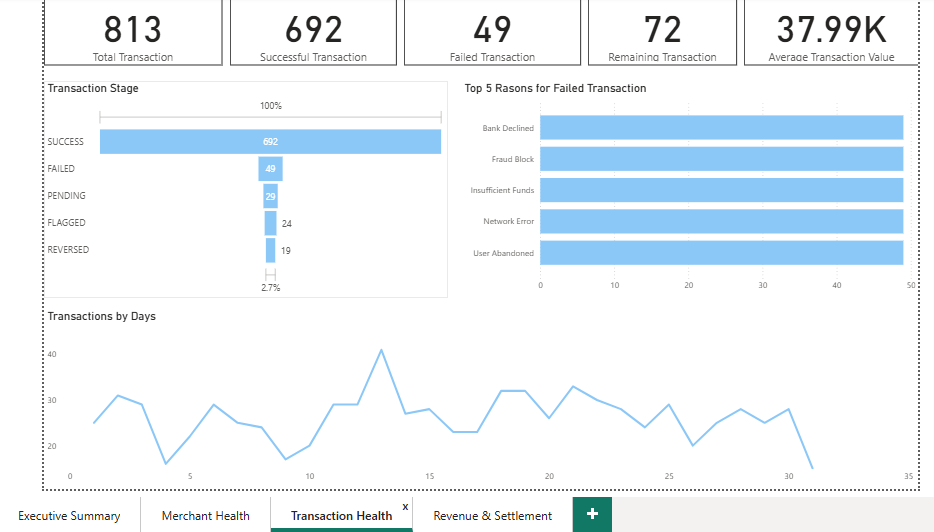

This screenshot's page, from the dashboard's own definition file:
{"tool":"powerbi","page":{"name":"Transaction Health","canvas":[1280,720],"ordinal":2},"visuals":[{"type":"card","fields":{"Values":["CountNonNull(zorvyn fact_transactions.txn_id)"]},"box":[272.2,0,244.4,99.5],"z":0,"group":"g1"},{"type":"card","fields":{"Values":["CountNonNull(zorvyn fact_transactions.txn_id)"]},"box":[526.8,0,259,99.5],"z":1000,"group":"g1"},{"type":"card","fields":{"Values":["CountNonNull(zorvyn fact_transactions.txn_id)"]},"box":[0,0,260.6,99.5],"z":2000,"group":"g1"},{"type":"card","fields":{"Values":["Avg(zorvyn fact_transactions.amount)"]},"box":[1024.4,0,256.1,99.5],"z":3000,"group":"g1"},{"type":"card","fields":{"Values":["CountNonNull(zorvyn fact_transactions.txn_id)"]},"box":[796.1,0,218,99.5],"z":4000,"group":"g1"},{"type":"funnel","title":"Transaction Stage","fields":{"Category":["zorvyn fact_transactions.txn_status"],"Y":["CountNonNull(zorvyn fact_transactions.txn_id)"]},"box":[0,122.9,591.2,317.6],"z":5000},{"type":"clusteredBarChart","title":"Top 5 Rasons for Failed Transaction","fields":{"Y":["CountNonNull(zorvyn fact_transactions.txn_id)"],"Category":["zorvyn dim_failure_reason.reason_category"]},"box":[610.2,122.9,670.2,317.6],"z":6000},{"type":"lineChart","title":"Transactions by Days","fields":{"Category":["zorvyn fact_transactions.txn_timestamp.Variation.Date Hierarchy.Day"],"Y":["CountNonNull(zorvyn fact_transactions.txn_id)"]},"box":[0,456.7,1280,263.3],"z":7000},{"type":"group","id":"g1","title":"Group 1","box":[0,0,1280.5,99.5],"z":7001}]}

Visuals, with their boxes on the page's 1280x720 design canvas (x1, y1, x2, y2). These are canvas units, not pixel positions in the 934x532 screenshot, which may show the page scaled, cropped or inside an application window:
card - CountNonNull(zorvyn fact_transactions.txn_id): pyautogui.locateOnScreen(272, 0, 517, 100)
card - CountNonNull(zorvyn fact_transactions.txn_id): pyautogui.locateOnScreen(527, 0, 786, 100)
card - CountNonNull(zorvyn fact_transactions.txn_id): pyautogui.locateOnScreen(0, 0, 261, 100)
card - Avg(zorvyn fact_transactions.amount): pyautogui.locateOnScreen(1024, 0, 1280, 100)
card - CountNonNull(zorvyn fact_transactions.txn_id): pyautogui.locateOnScreen(796, 0, 1014, 100)
"Transaction Stage" funnel: pyautogui.locateOnScreen(0, 123, 591, 440)
"Top 5 Rasons for Failed Transaction" clusteredBarChart: pyautogui.locateOnScreen(610, 123, 1280, 440)
"Transactions by Days" lineChart: pyautogui.locateOnScreen(0, 457, 1280, 720)
"Group 1" group: pyautogui.locateOnScreen(0, 0, 1280, 100)
